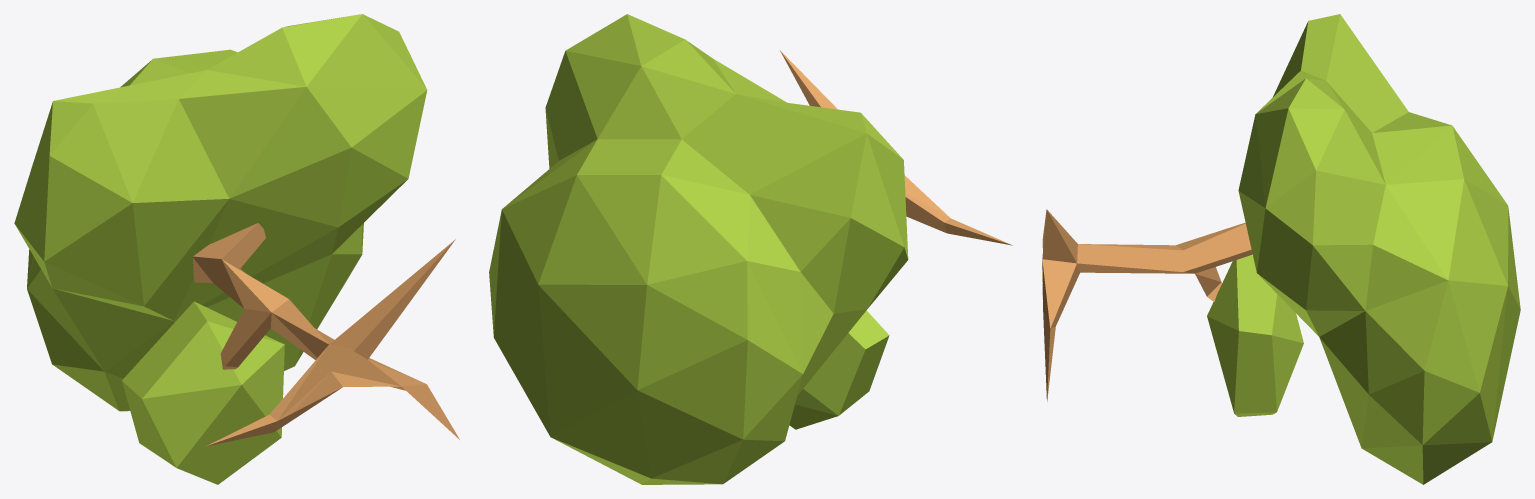
Rendered from Tree1.fbx.
The picture shows the model from 3 angles, left to right: view 1: azimuth 30°, elevation 25°; view 2: azimuth 150°, elevation 25°; view 3: azimuth 270°, elevation 25°; orthographic projection. The views are drawn at different scales.
Parts seen in each view (by area): view 1: generic_tree_1; view 2: generic_tree_1; view 3: generic_tree_1.
Boxes of the visible parts, <box> form: generic_tree_1: <box>14,14,459,484</box>; generic_tree_1: <box>489,14,1012,484</box>; generic_tree_1: <box>1042,14,1520,484</box>.
Size of the model in its own units: 461 by 474 by 508.
